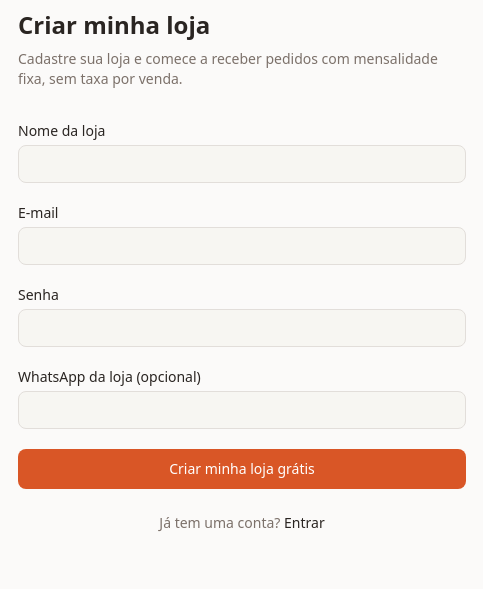
it: CadastroPage › exibe erro retornado pela API em caso de falha
The width and height of the screenshot is (483, 589).
Type "Lanchonete do Zé" into the field labelled "Nome da loja" at (242, 164), box left=18, top=145, right=466, bottom=183
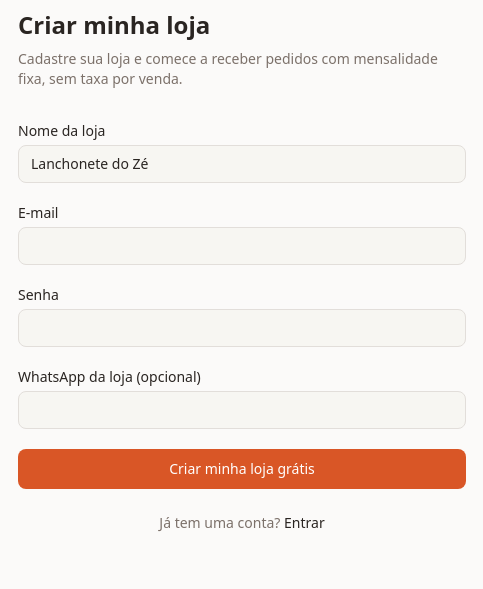
Type "dono@lanchonete.com" into the field labelled "E-mail" at (242, 246), box left=18, top=227, right=466, bottom=265
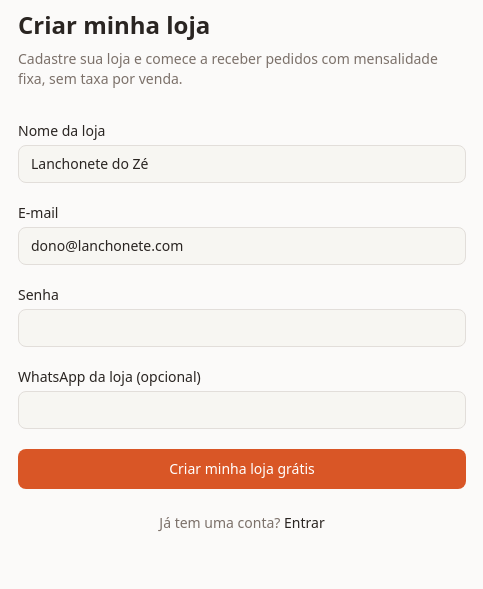
Type "123456" into the password field labelled "Senha" at (242, 328), box left=18, top=309, right=466, bottom=347
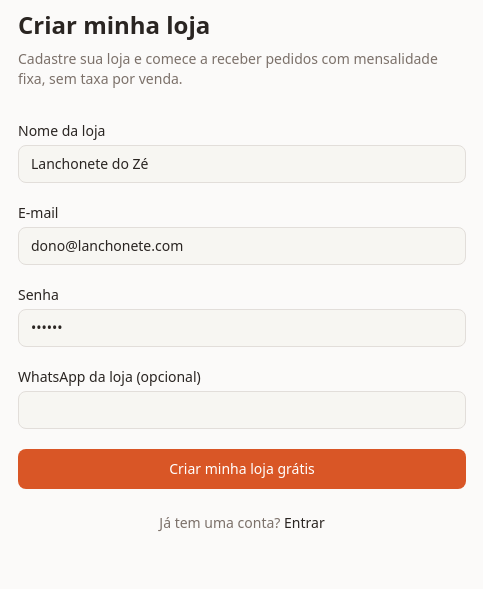
Click the button "Criar minha loja grátis" at (242, 469), box left=18, top=449, right=466, bottom=489
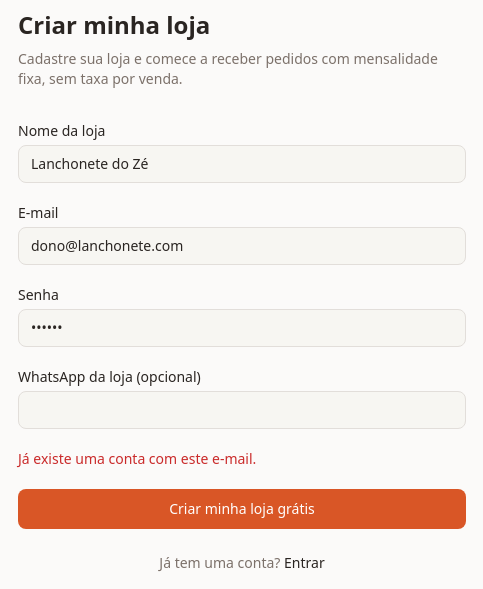
Now the text "Já existe uma conta com este e-mail." is shown, box left=18, top=449, right=256, bottom=468
